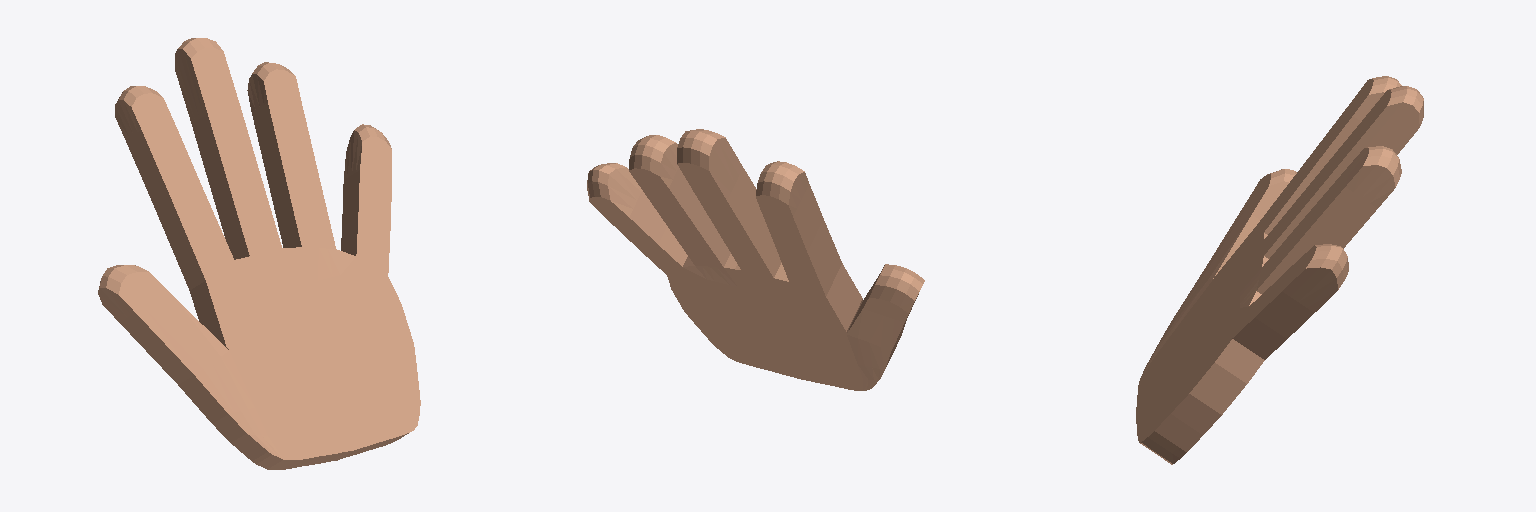
The picture shows the model from 3 angles: view 1: azimuth 30°, elevation 25°; view 2: azimuth 150°, elevation 25°; view 3: azimuth 270°, elevation 25°; orthographic projection.
Parts seen in each view (by area): view 1: 立方体.007; view 2: 立方体.007; view 3: 立方体.007.
Part boxes in pixels (bbox=[...]): 立方体.007: bbox=[98, 38, 420, 469]; 立方体.007: bbox=[587, 129, 924, 390]; 立方体.007: bbox=[1136, 76, 1423, 464].
Size of the model in its own units: 0.7369 by 0.7765 by 0.5971.
Materials: 1 (1 with a texture image).